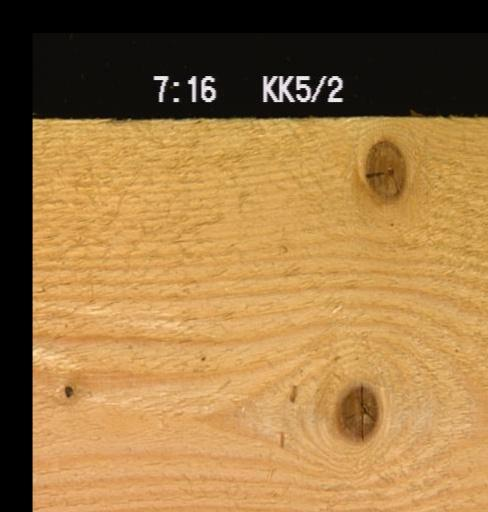dry_knot: (59, 379, 75, 400)
sound_knot: (362, 139, 405, 202), (334, 384, 382, 439)
